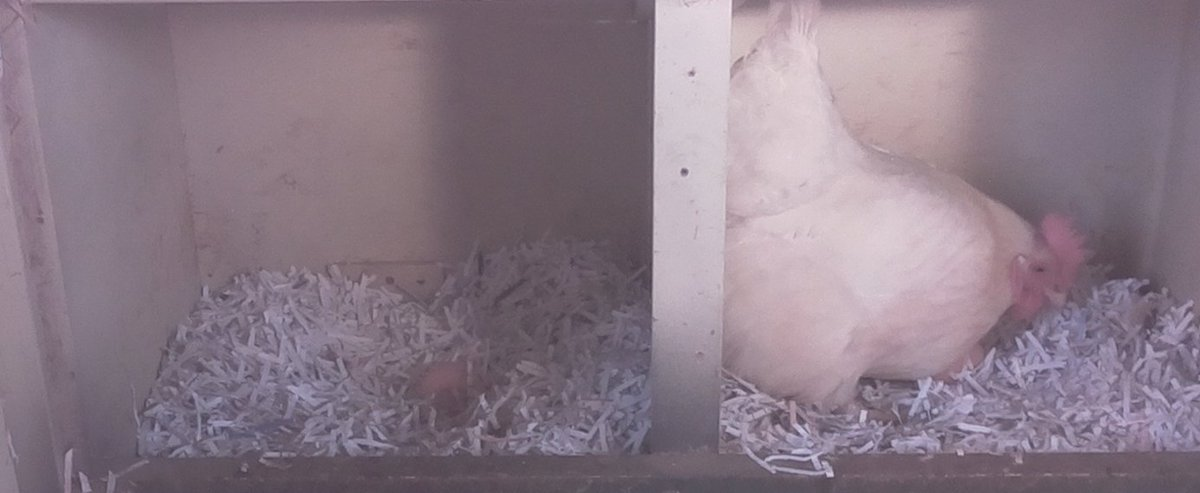egg: (411, 357, 486, 414)
hen: (733, 12, 1101, 410)
